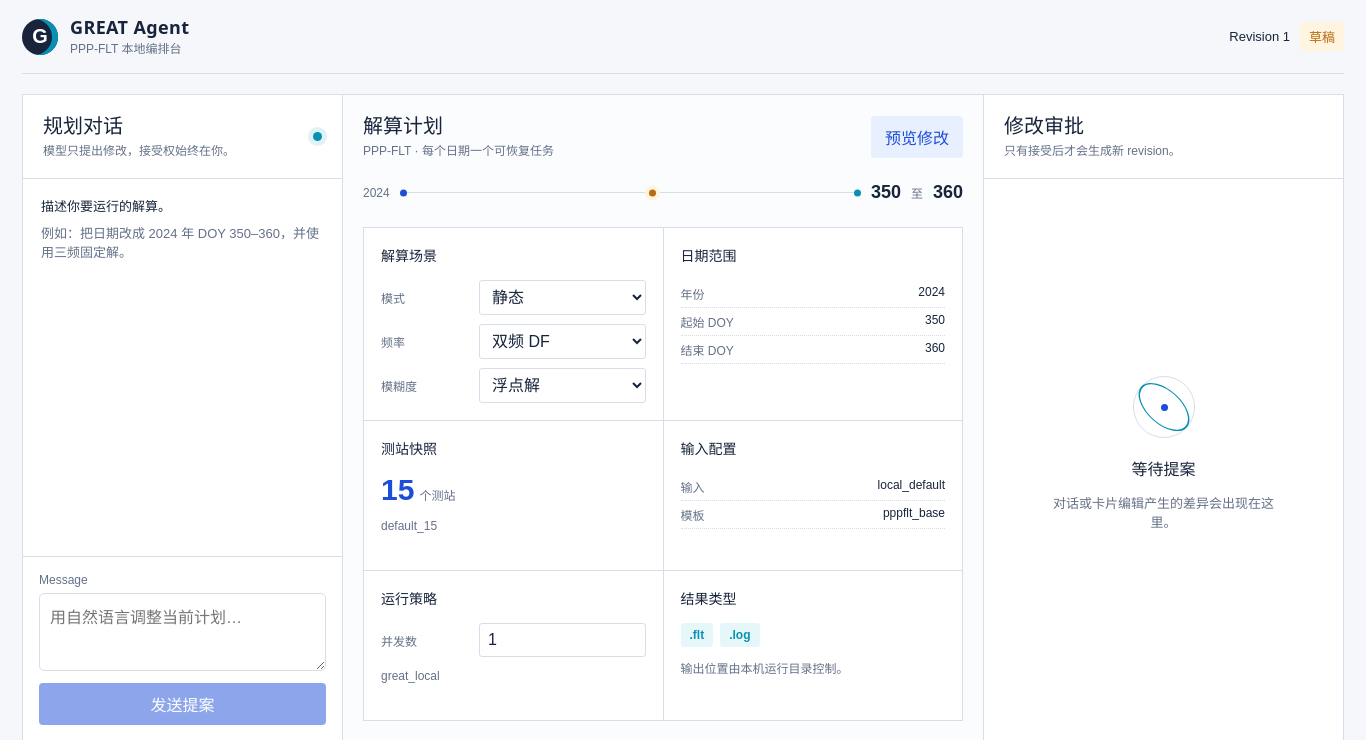
Test case: ExperimentWorkspace › reloads the latest plan after a stale revision conflict
Type "改成三频" into the text box labelled "Message" at (182, 632), box [39,593,326,671]
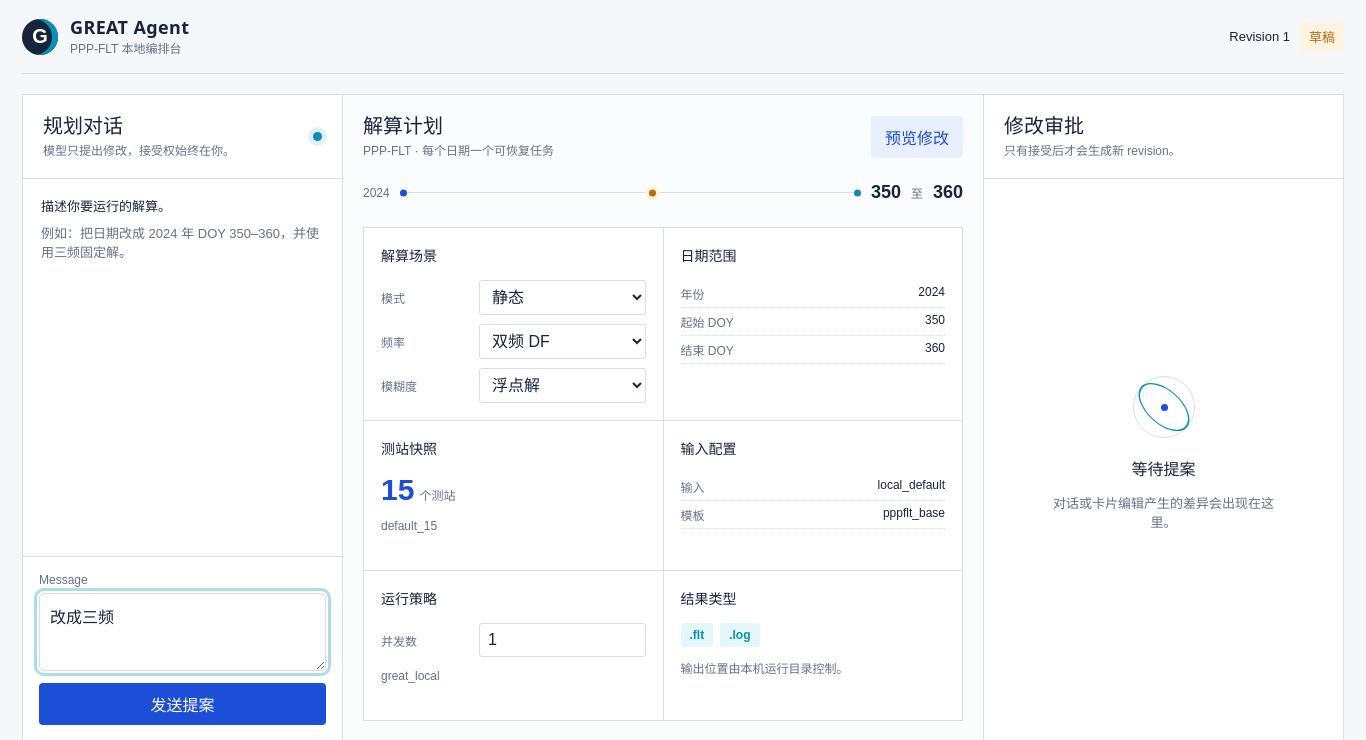
Click the button "发送提案" at (182, 704), box [39,683,326,725]
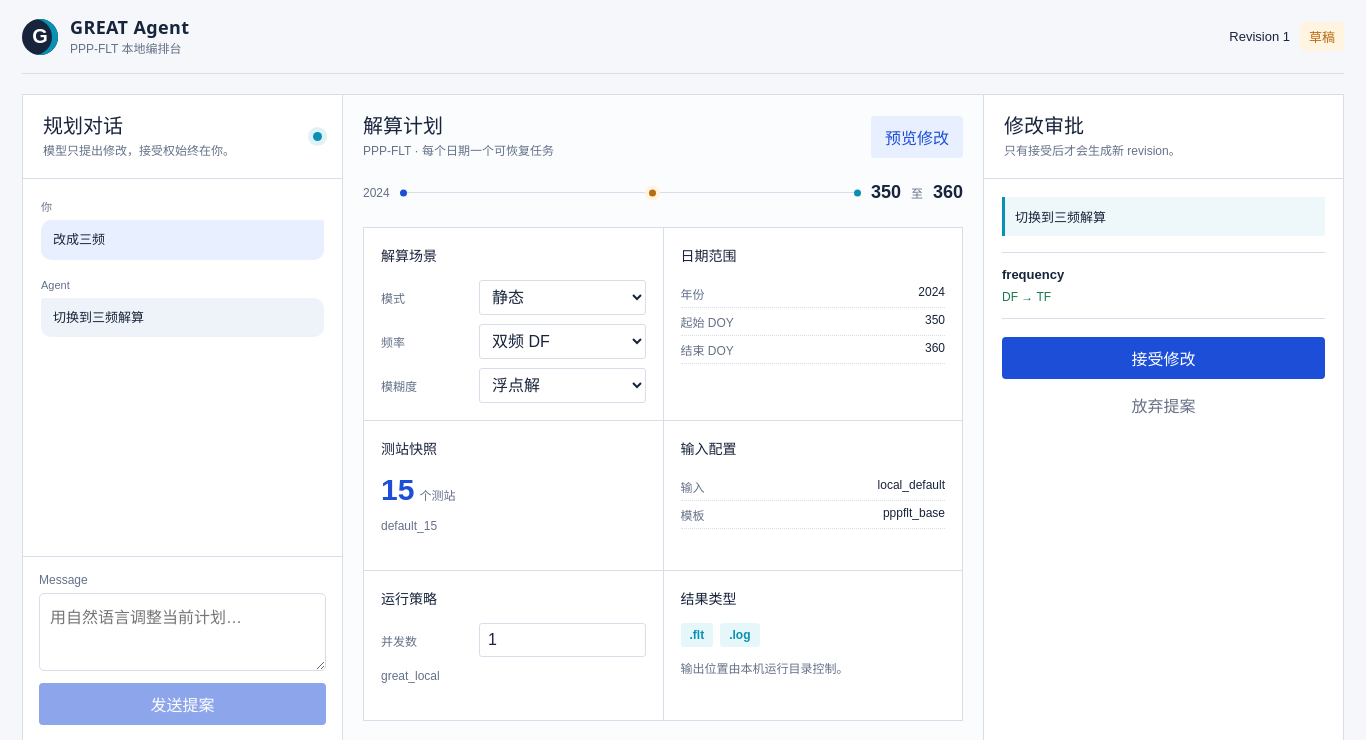
Click the button "接受修改" at (1164, 358), box [1002,337,1325,379]
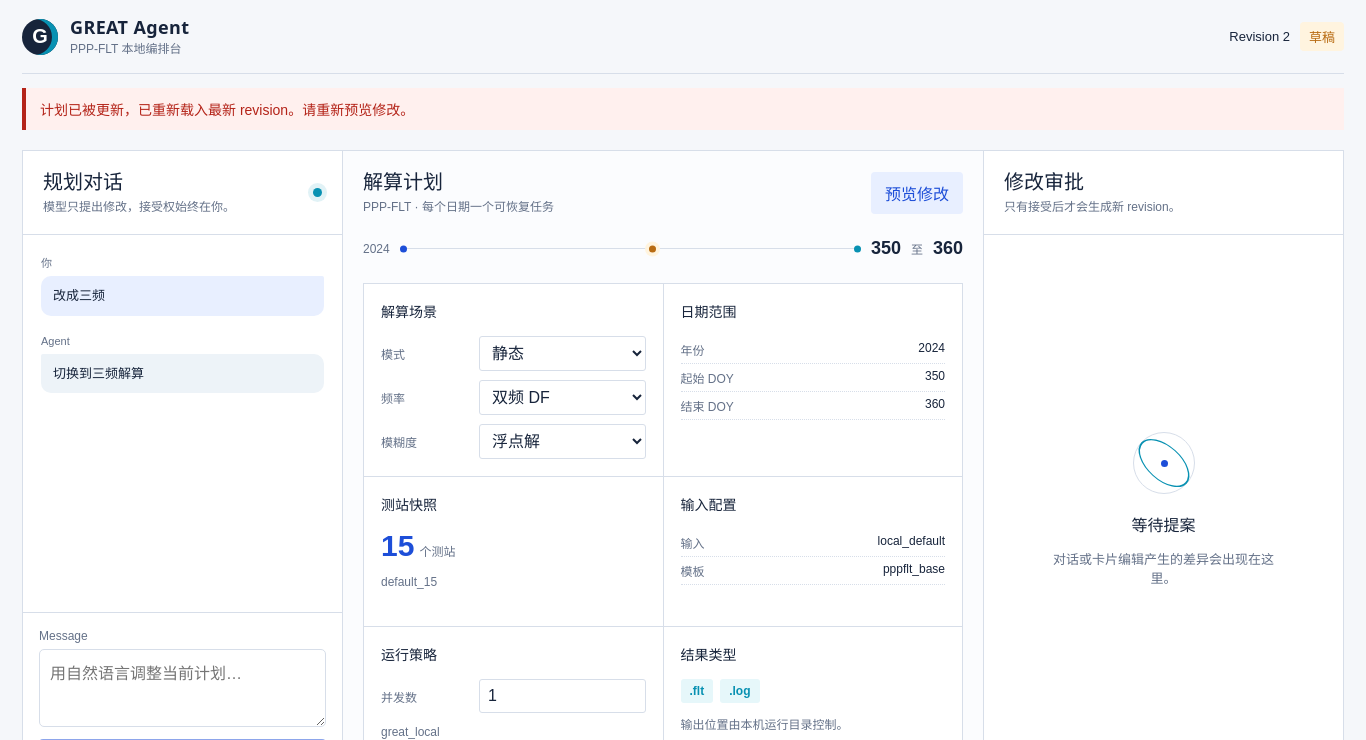
Expected: the text "计划已被更新，已重新载入最新 revision。请重新预览修改。" is shown, [22,88,1344,130]
Expected: the text "Revision 2" is shown, [1229,29,1290,44]
